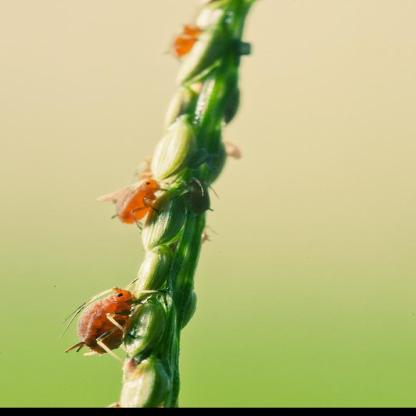aphid: (59, 279, 155, 361), (88, 170, 174, 228), (150, 23, 205, 62)
